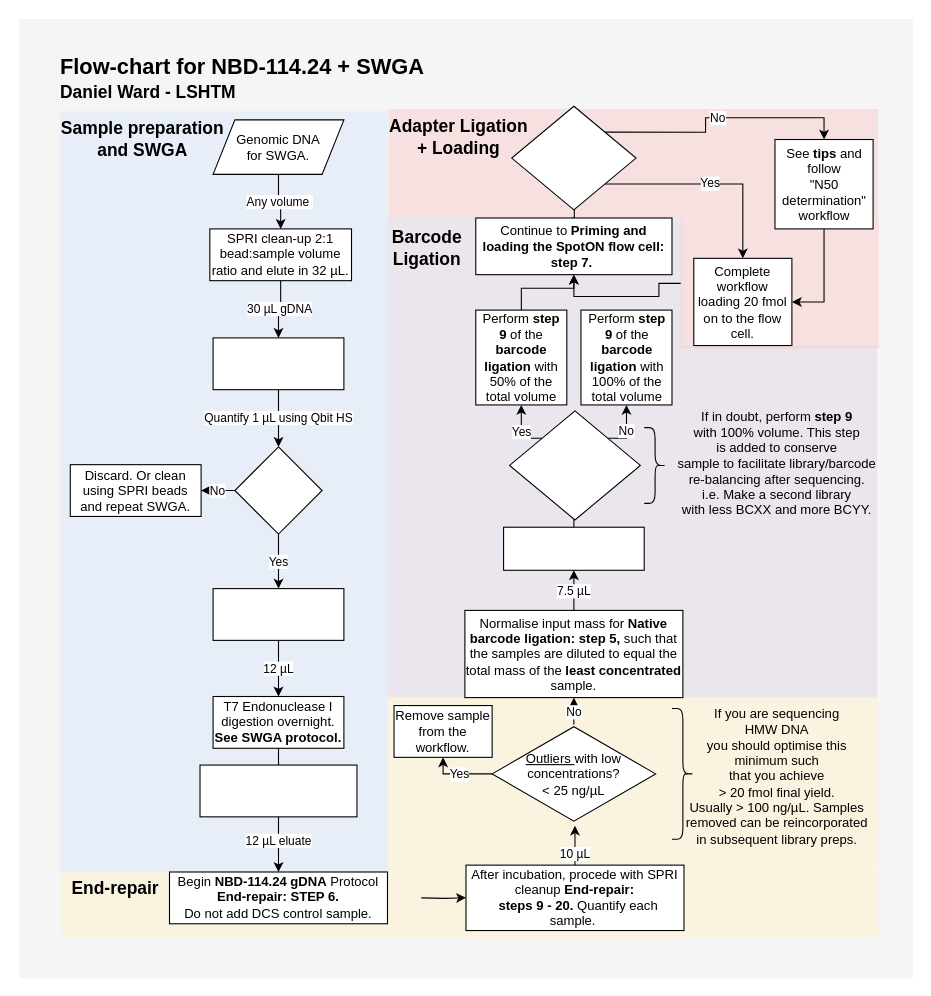
This 931x996 diagram has some shape labels left out. The centre of each missing label's shape, as x and y in pixels:
"Do you know the N50 of your sample" belongs at point 573,157.
"Is > 8 ng/µL?" belongs at point 278,490.
"Is the sample concentration > 40 ng/µL" belongs at point 574,465.
"Overnight SWGA. See SWGA protocol." belongs at point 278,363.
"Perform step 5 of Barcode Ligation." belongs at point 573,548.
"SPRI clean-up and elute in 13 µL. 0.5:1 bead:sample volume ratio." belongs at point 278,790.
"SPRI clean-up and elute in 14 µL. 1:1 bead ratio." belongs at point 278,614.
